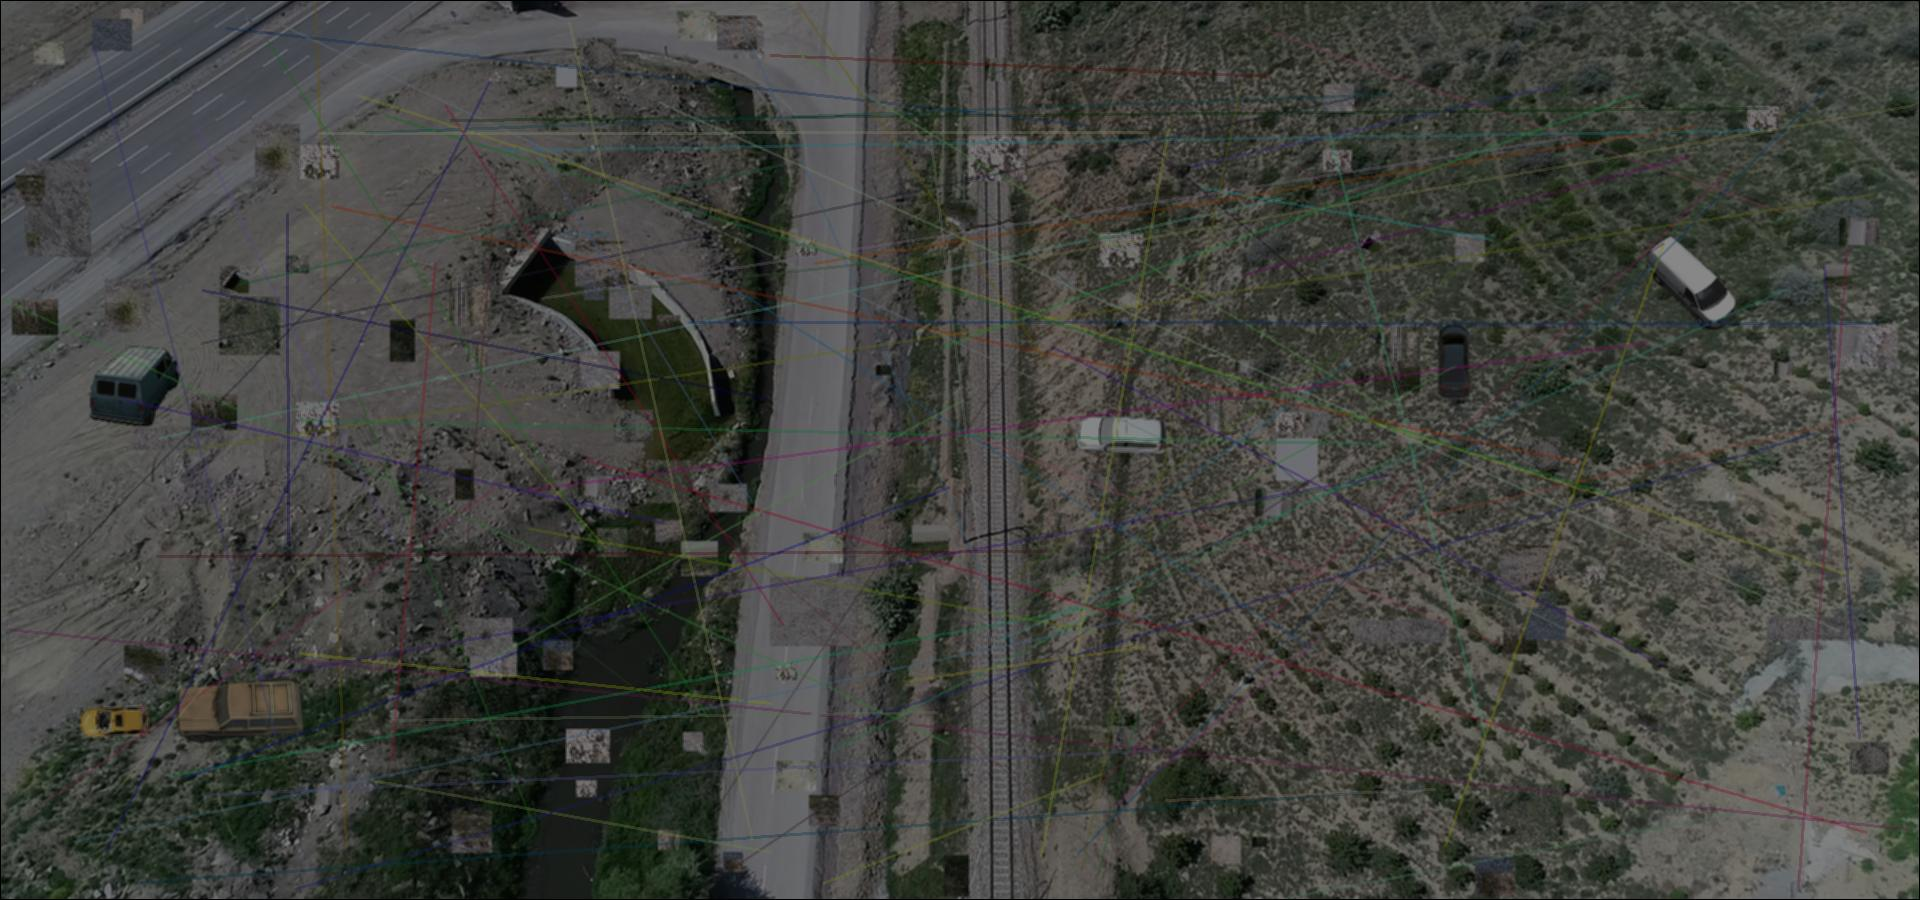arac: (175, 673, 307, 746), (1646, 233, 1738, 331), (87, 340, 182, 426), (1075, 411, 1168, 463), (77, 703, 154, 742), (1434, 324, 1473, 400), (121, 359, 146, 396)
